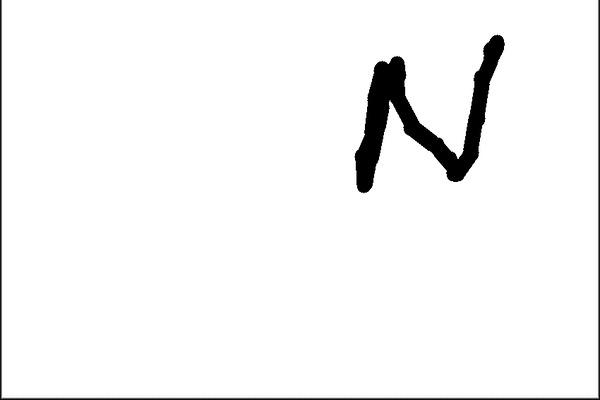N: (349, 30, 508, 201)
